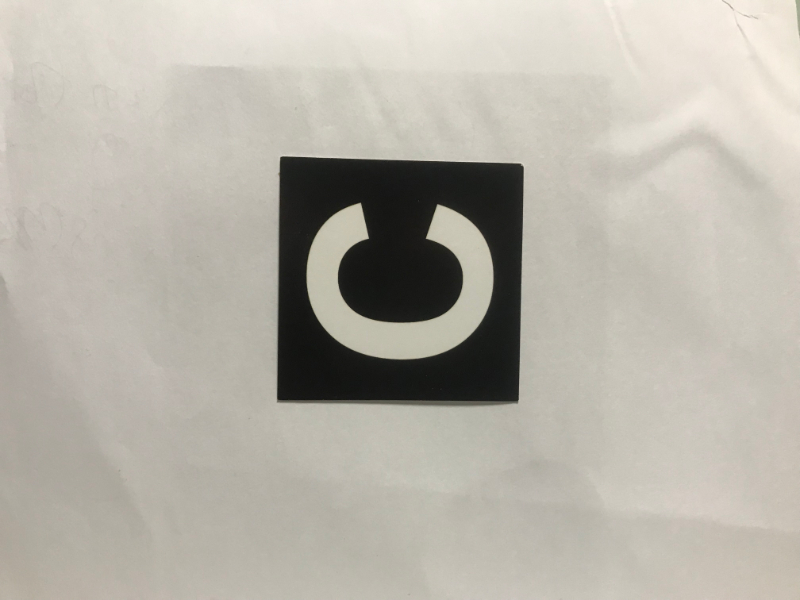C-13: (284, 166, 515, 397)
